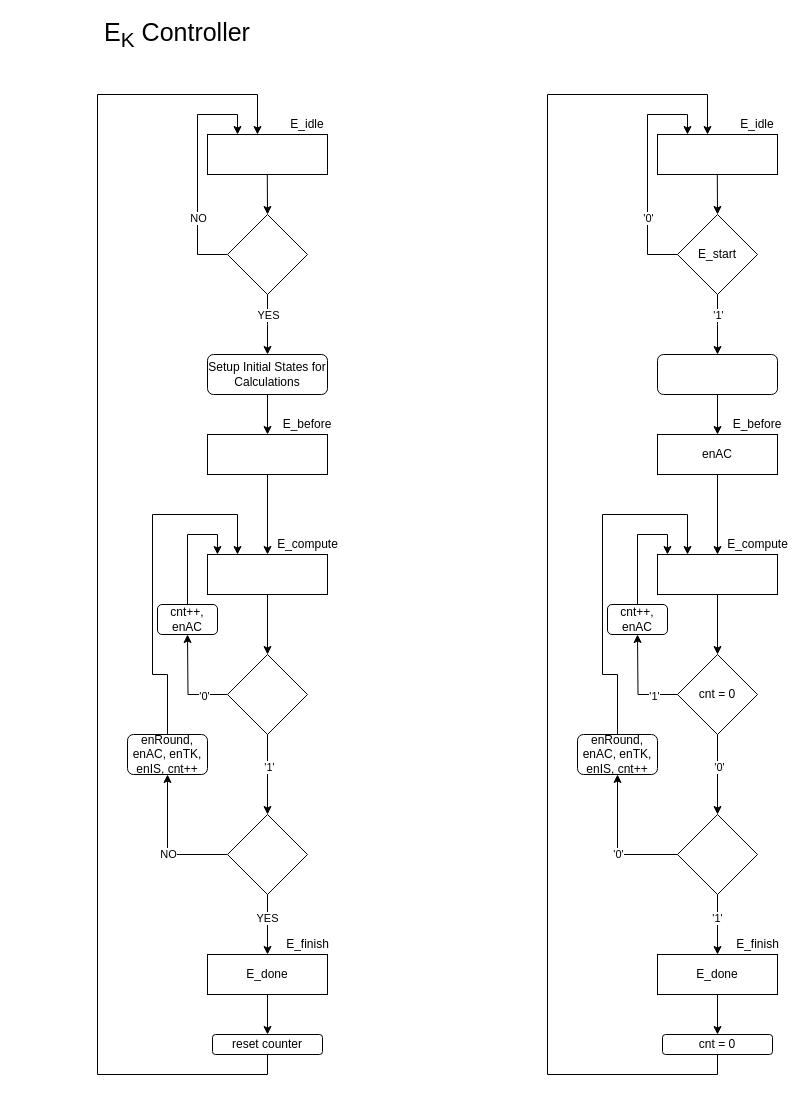
Image size: 805x1100. Some labels were removed from this diagram. The box of each missing label's shape, as (x1, y1, x2, y2) in pixels:
cnt = 41: (676, 814, 758, 894)
enAC, selInitial, enTK, enRound, enIS: (656, 354, 778, 394)
First Round: (226, 654, 308, 734)
Last Round: (226, 814, 308, 894)
Start Computation: (226, 214, 308, 294)
Update AddConstants LFSR prior to Round: (206, 434, 328, 474)
